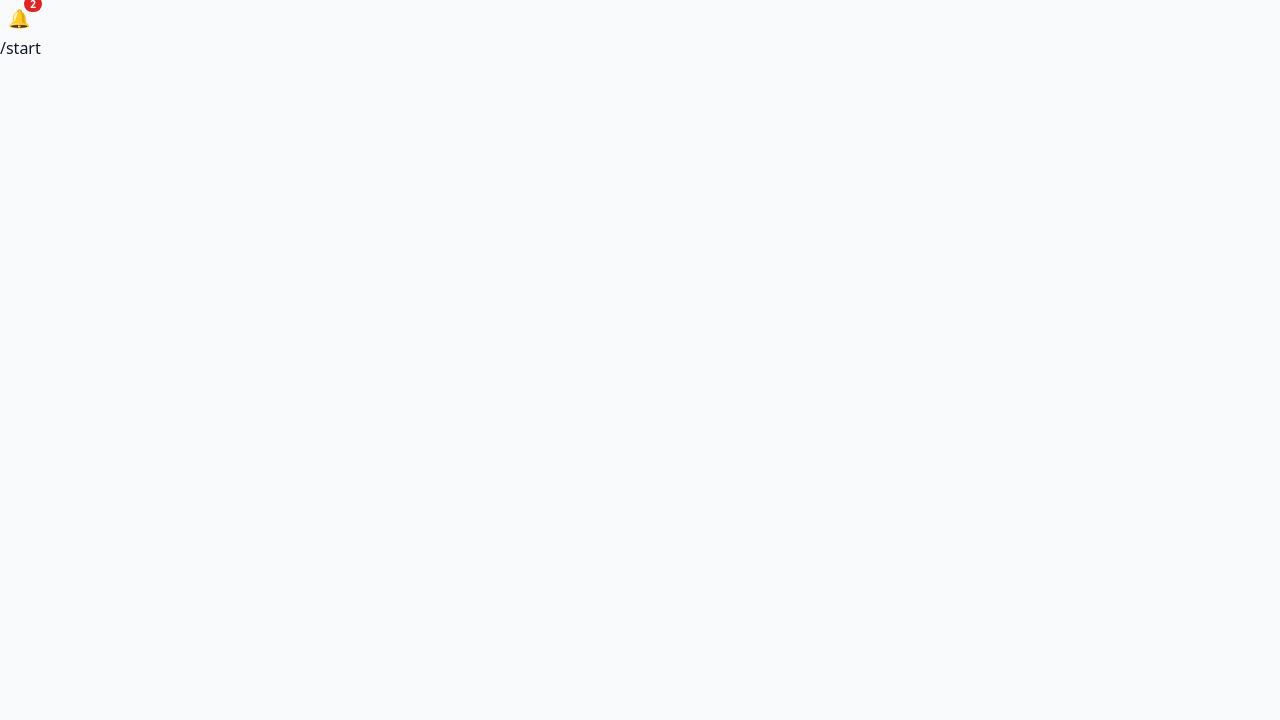
Test case: an already-read notification still opens its target but is not marked again; evidence leads to the Evidence tab
This screenshot has width=1280, height=720.
Click the button named "Notifications, 2 unread": [19, 18] box [0, 0, 38, 36]
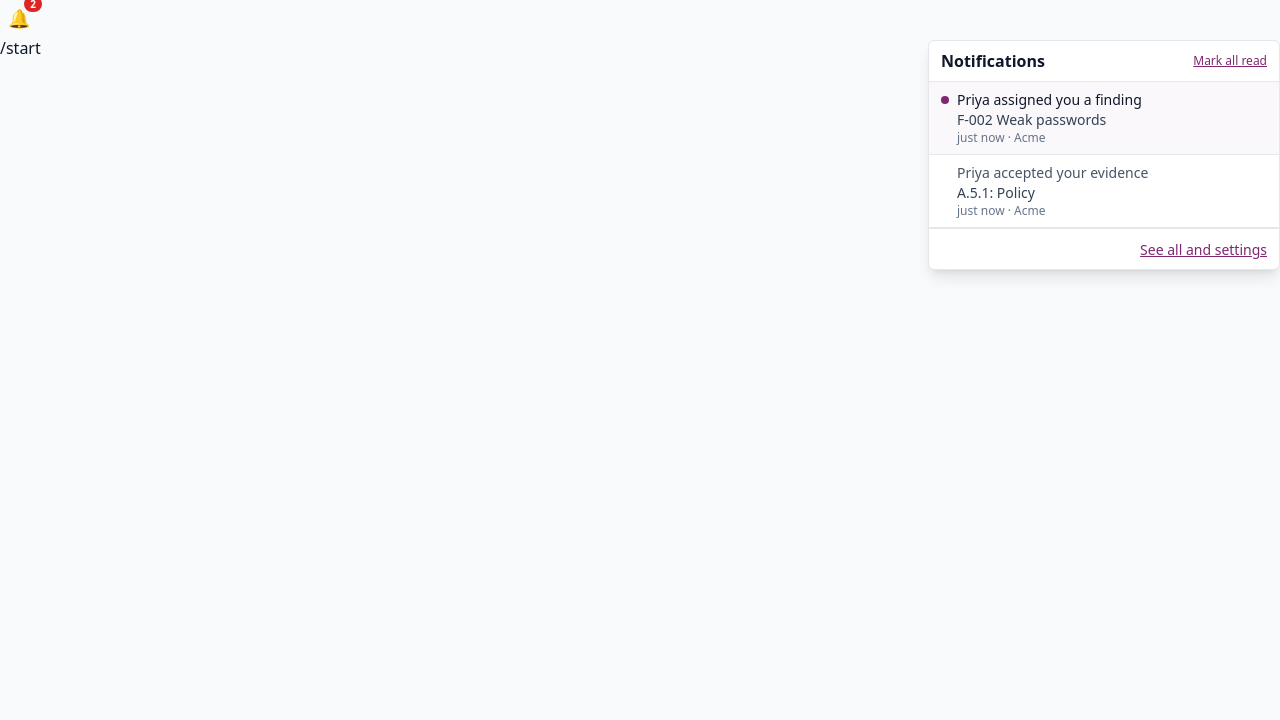
Click the text "A.5.1: Policy": [996, 192] box [957, 183, 1035, 202]
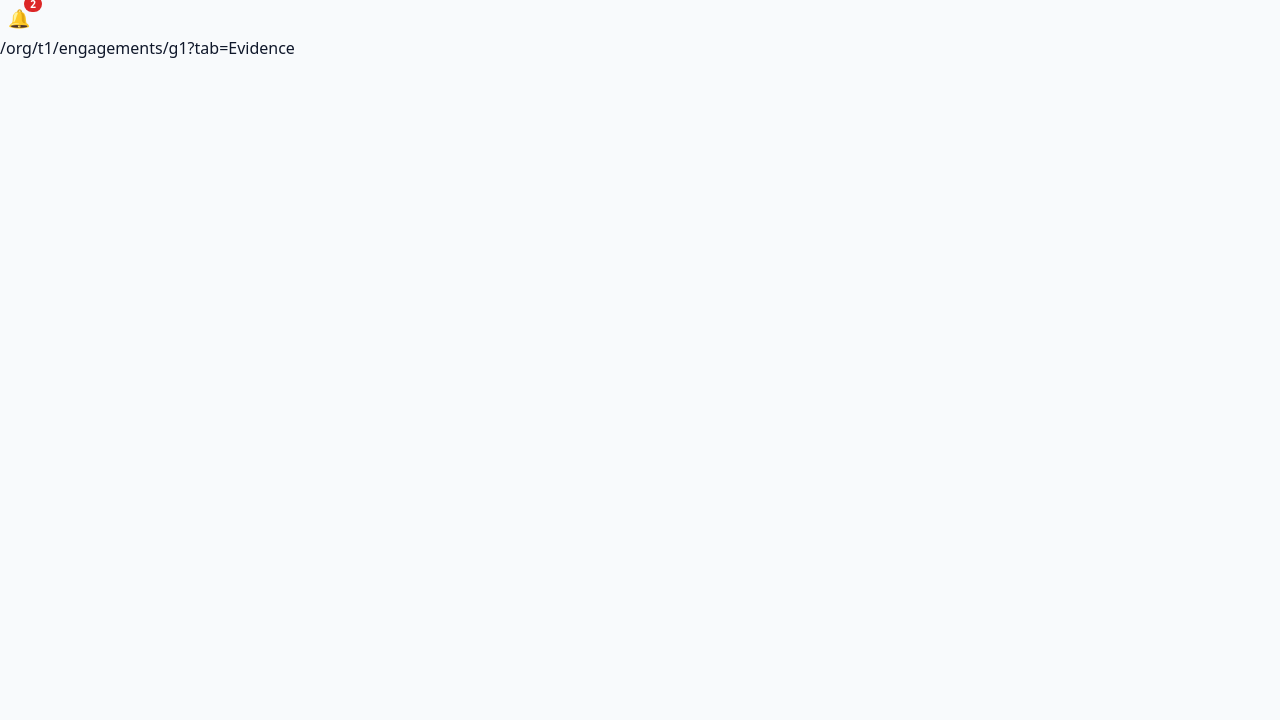
Expected: the text with test id "where" reads "/org/t1/engagements/g1?tab=Evidence", [0, 37, 295, 59]
